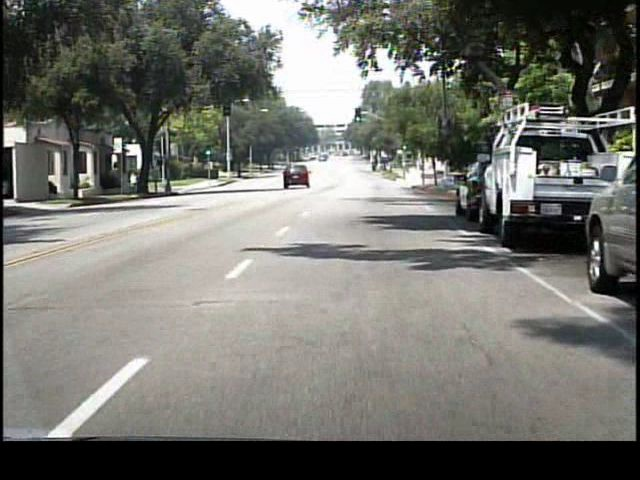person: (131, 170, 139, 195)
